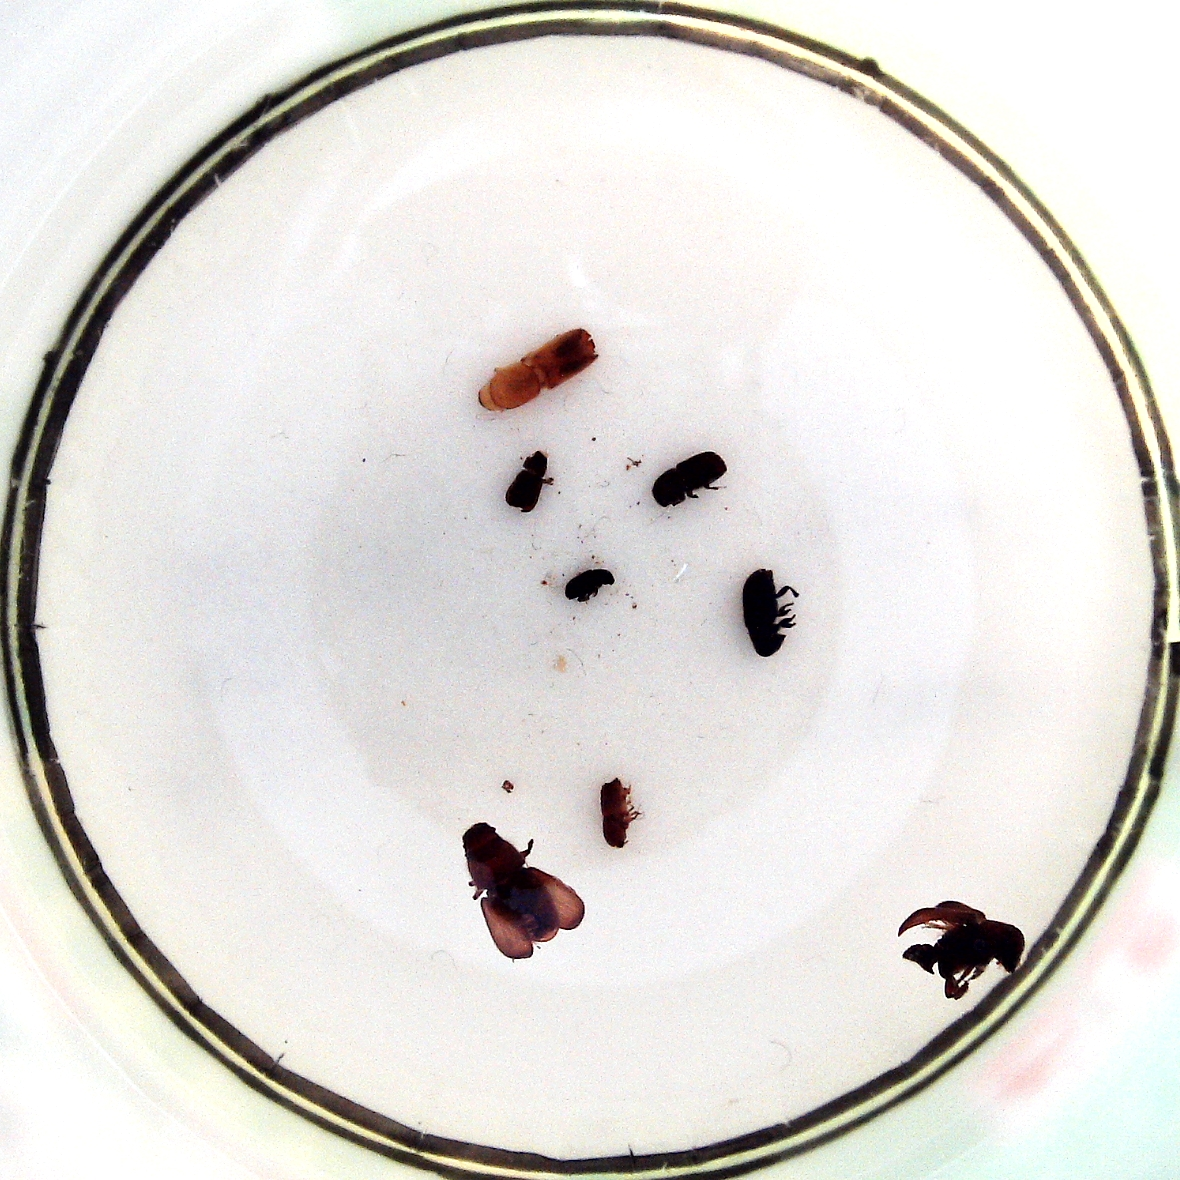Boerner: (478, 328, 600, 413)
Leconte: (462, 821, 559, 944), (900, 900, 1024, 973)
acuminatus: (506, 451, 548, 511), (563, 568, 617, 601)
armandi: (742, 567, 786, 656)
coleoptera: (600, 776, 631, 849)
linnaeus: (653, 451, 727, 506)
